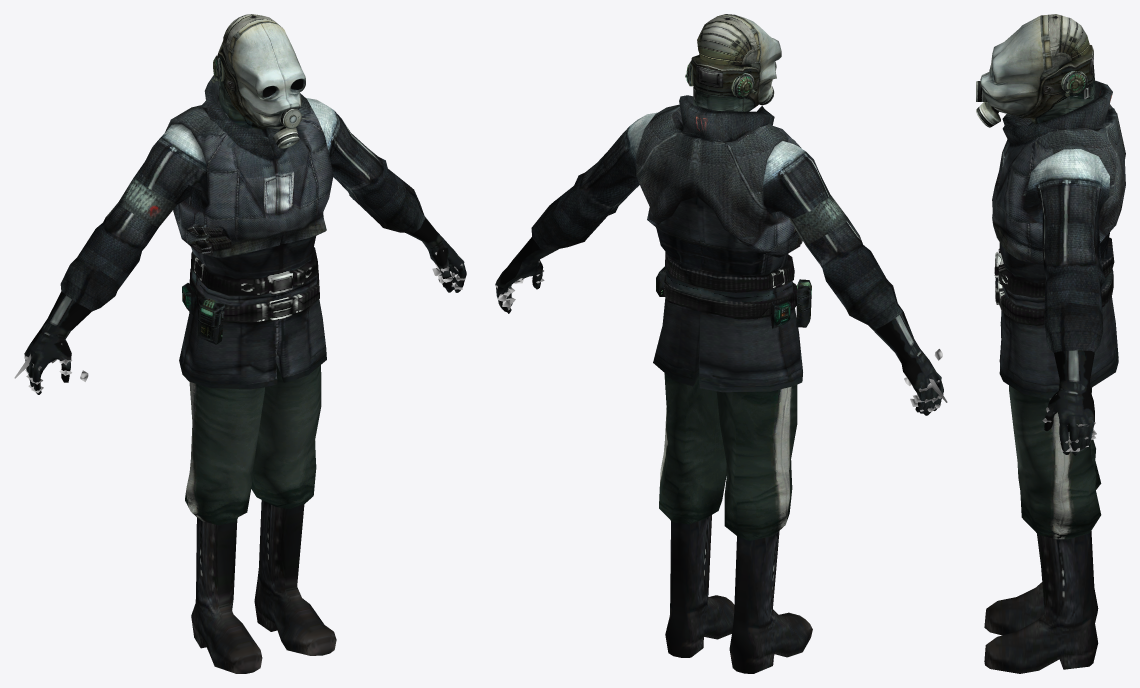
Rendered from Police.obj.
The picture shows the model from 3 angles, left to right: view 1: azimuth 30°, elevation 25°; view 2: azimuth 150°, elevation 25°; view 3: azimuth 270°, elevation 25°; orthographic projection.
Parts seen in each view (by area): view 1: (null); view 2: (null); view 3: (null).
Part boxes in pixels (<box>): (null): <box>14,14,466,673</box>; (null): <box>495,14,947,673</box>; (null): <box>976,14,1125,673</box>.
Bounding box in the file's own units: 54.24 × 72.74 × 15.7.
